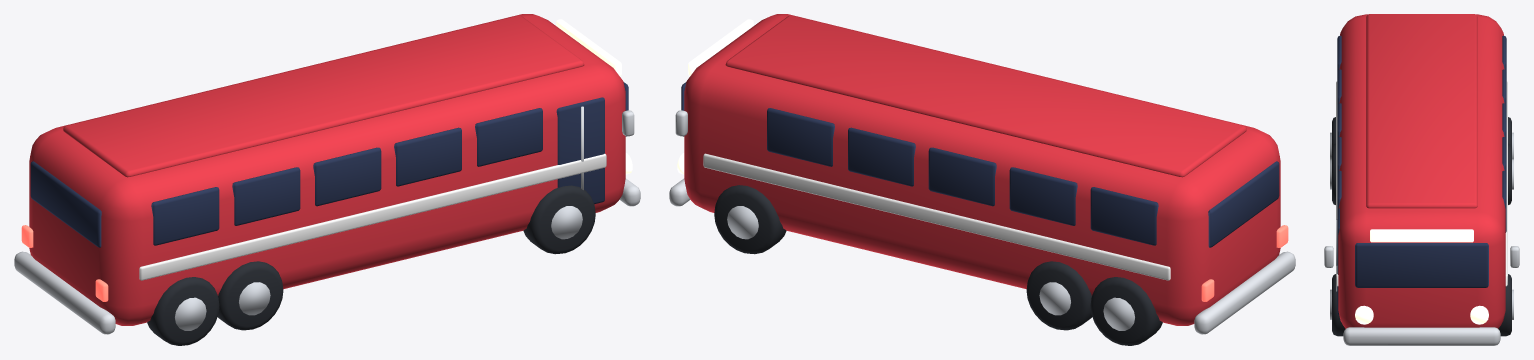
File: bus-Ba62UdTX.glb
3 views of the same model, side by side, from view 1: azimuth 30°, elevation 25°; view 2: azimuth 150°, elevation 25°; view 3: azimuth 270°, elevation 25° (orthographic). The views are drawn at different scales.
Parts seen in each view (by area): view 1: bus; view 2: bus; view 3: bus.
Part boxes in pixels (x1,y1,x2,y2): bus: (14,14,640,345); bus: (669,14,1295,345); bus: (1324,14,1519,345).
Bounding box in the file's own units: 2.87 × 0.865 × 1.05.
